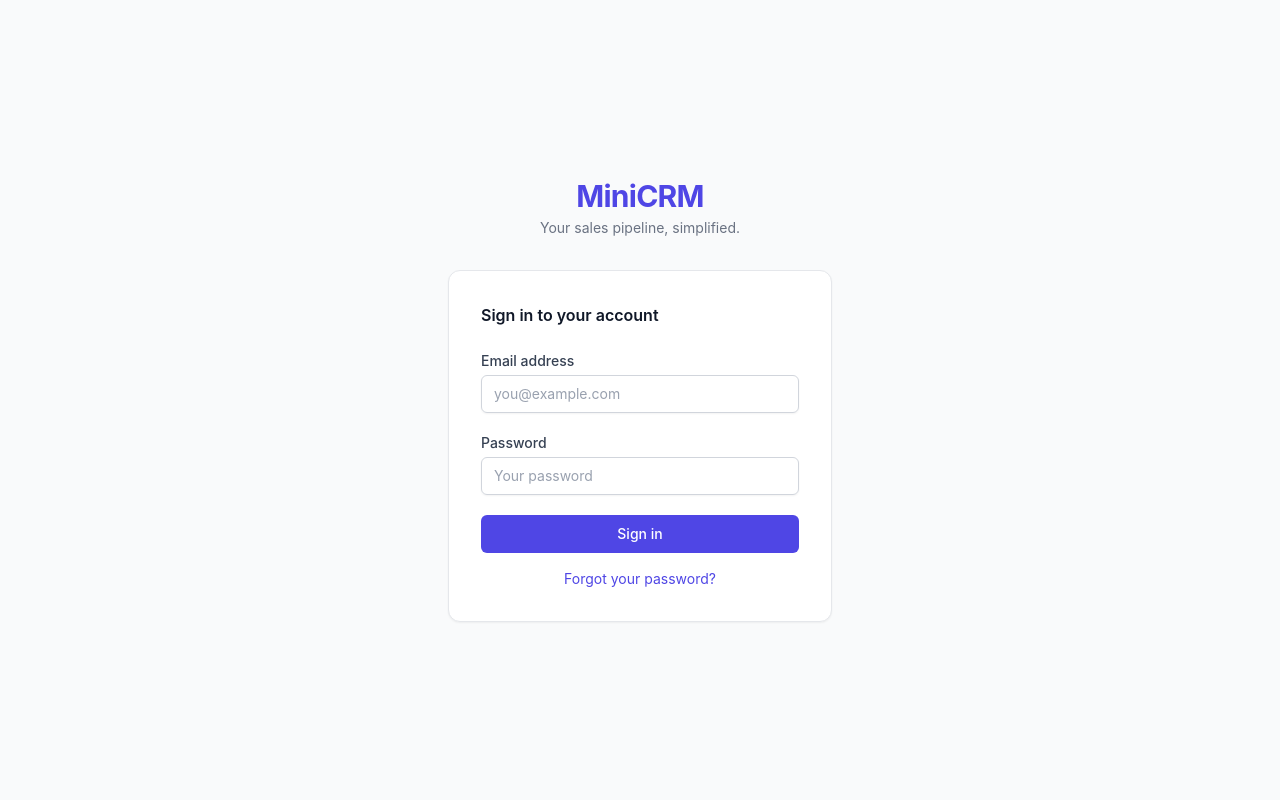
LoginPage — session expired › MFA challenge flow › shows the MFA modal when login returns mfaRequired:true
In the field with test id "login-email": (640, 394) [481,375,799,413], type "admin@example.com"
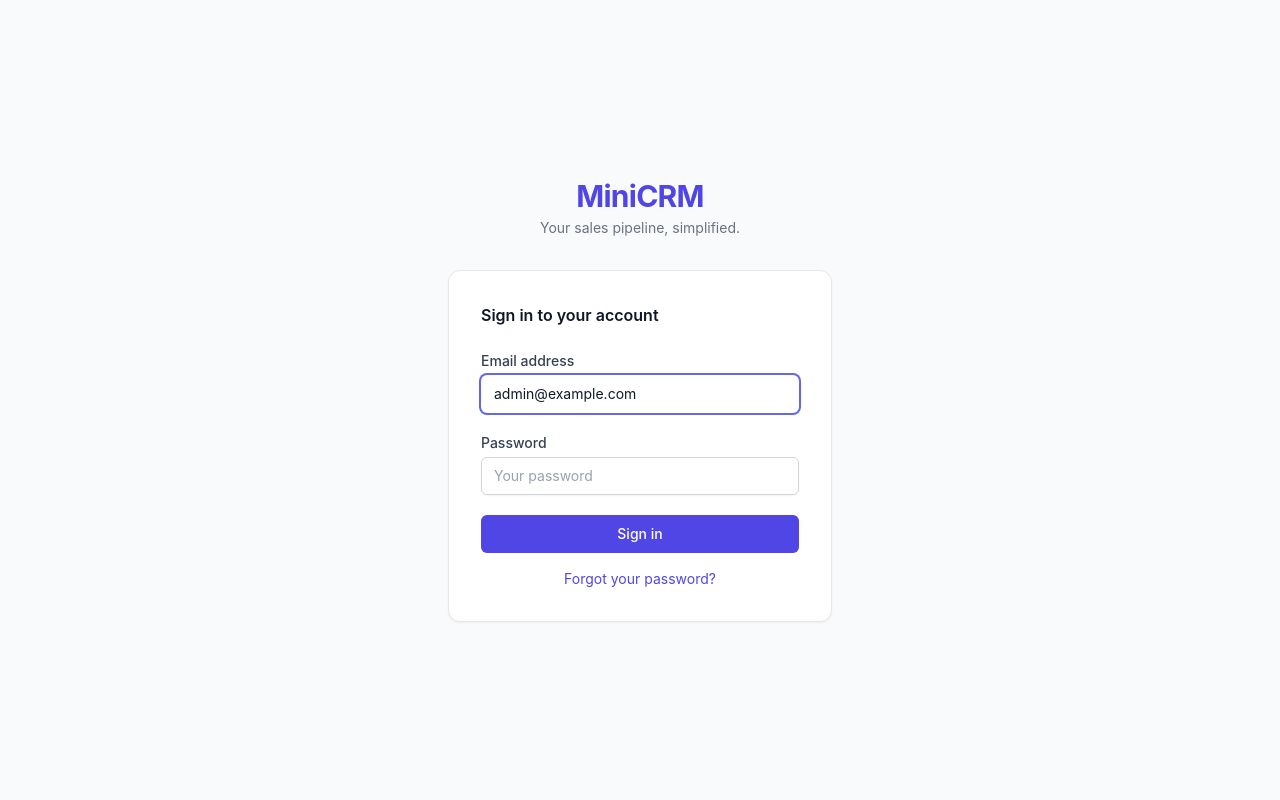
In the password field with test id "login-password": (640, 476) [481,457,799,495], type "correct-password"
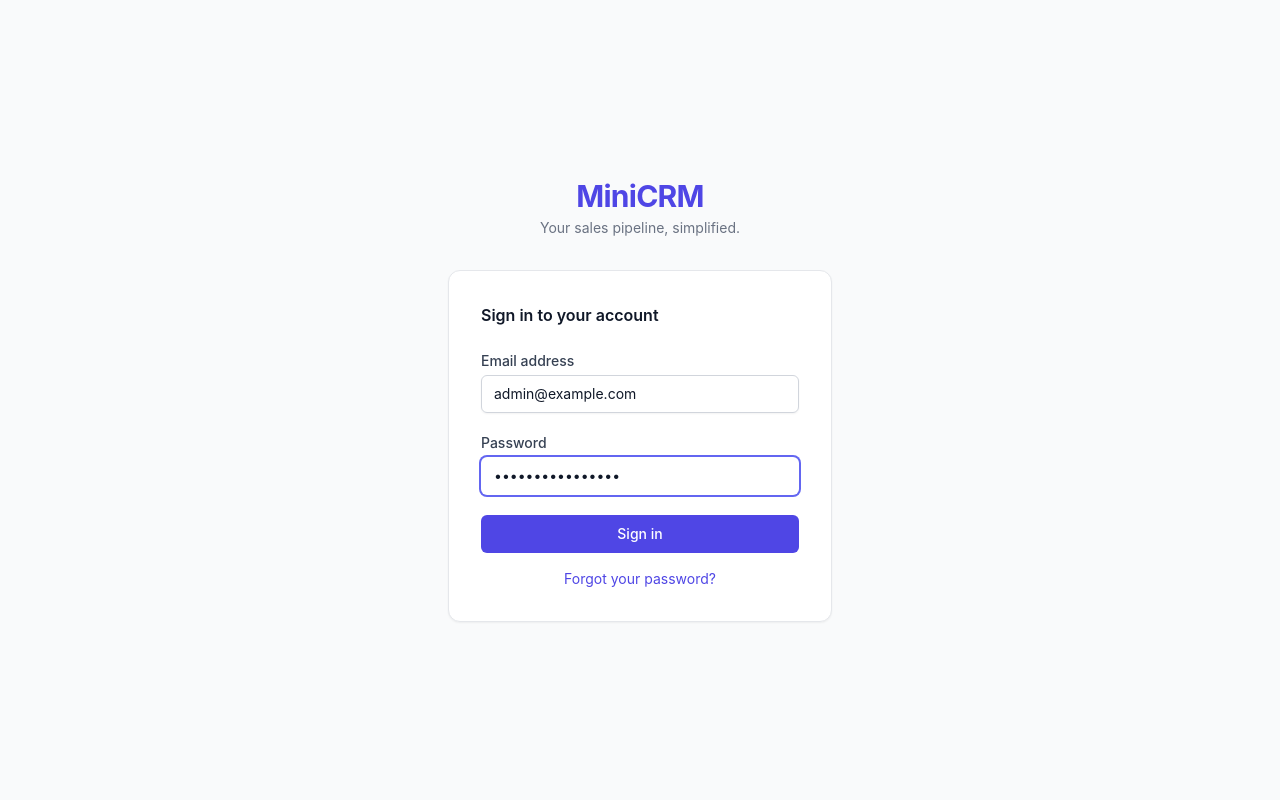
Click the button with test id "login-submit": click(640, 534) [481,515,799,553]
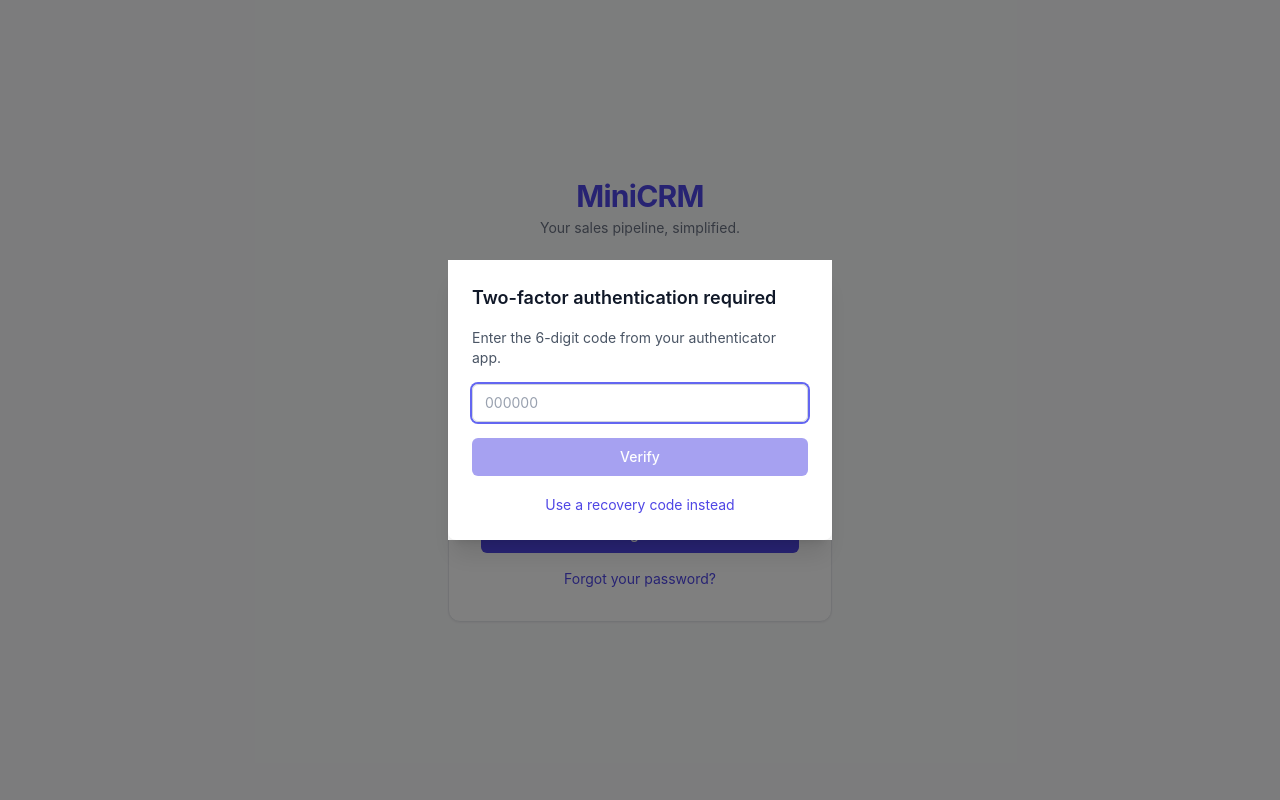
Check: the element with test id "mfa-login-modal" is shown
